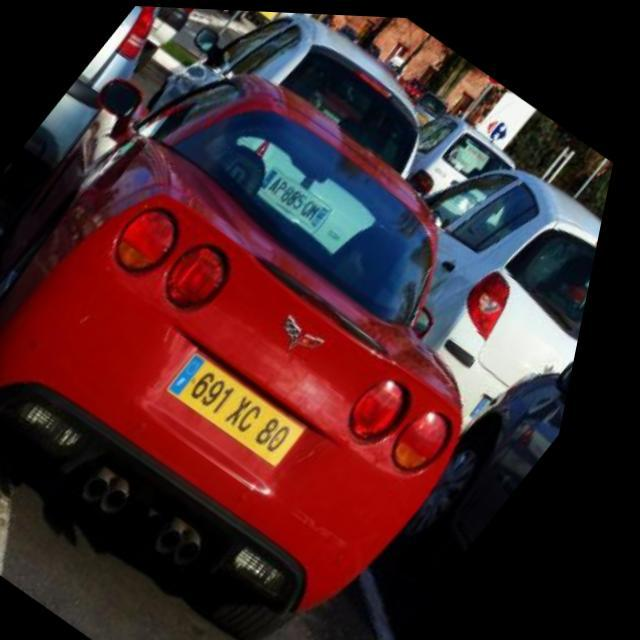license_plate: (168, 348, 334, 466), (256, 166, 345, 228), (482, 387, 512, 417), (455, 186, 487, 211)
